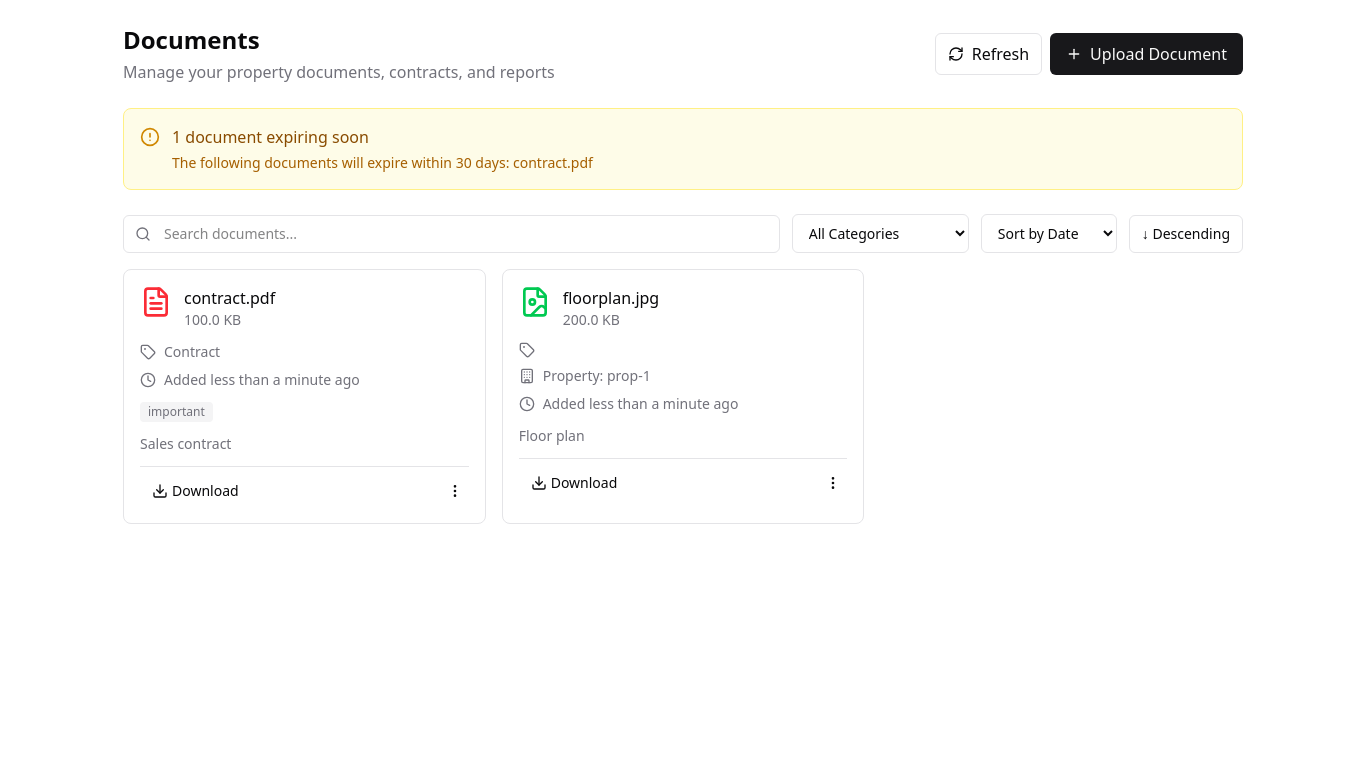
Test: DocumentsPage › closes upload modal on cancel
Check: the heading "Documents" is shown, box top-left (123, 23), bottom-right (260, 56)
Click the button "Upload Document".
click(1147, 54)  # box top-left (1050, 33), bottom-right (1243, 75)
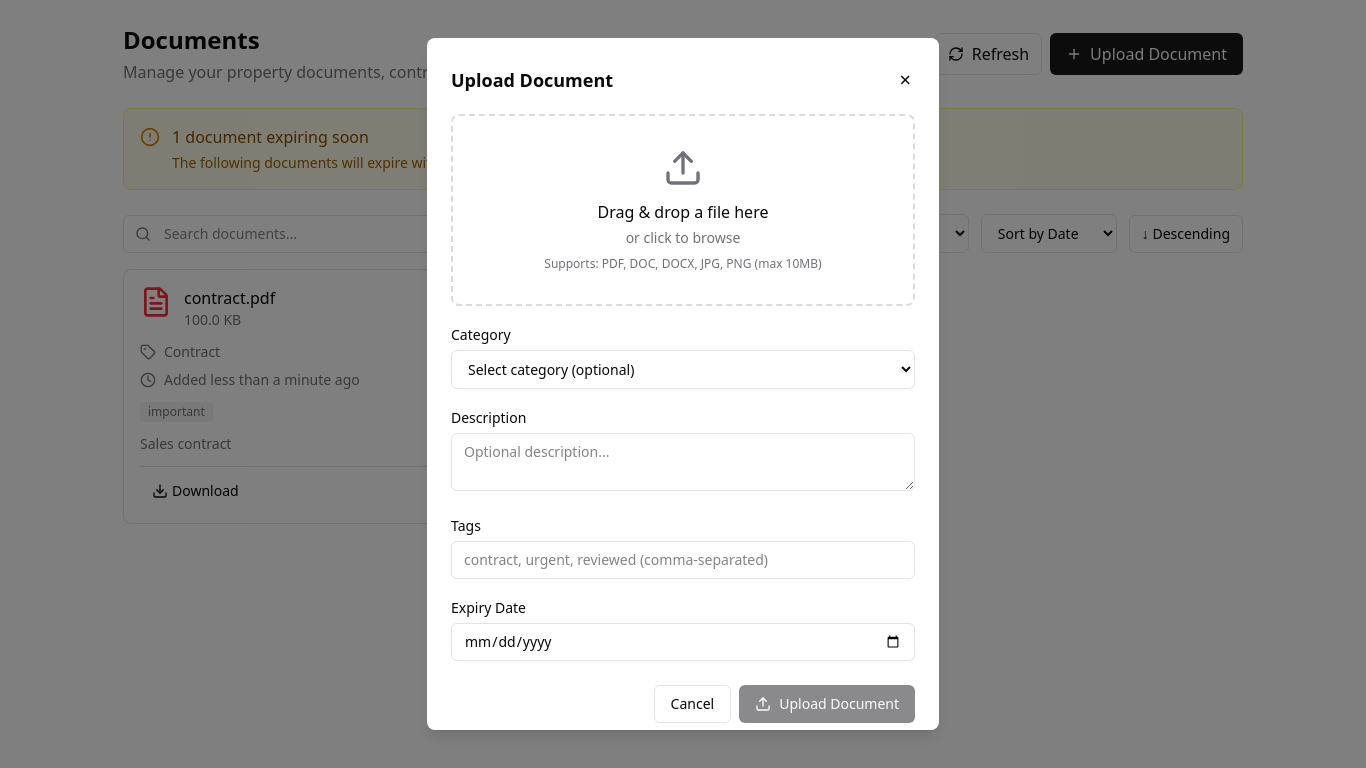
Check: the button "×" is shown
Note: Click the close button to close modal
Click the button "×".
click(905, 80)  # box top-left (896, 62), bottom-right (915, 98)
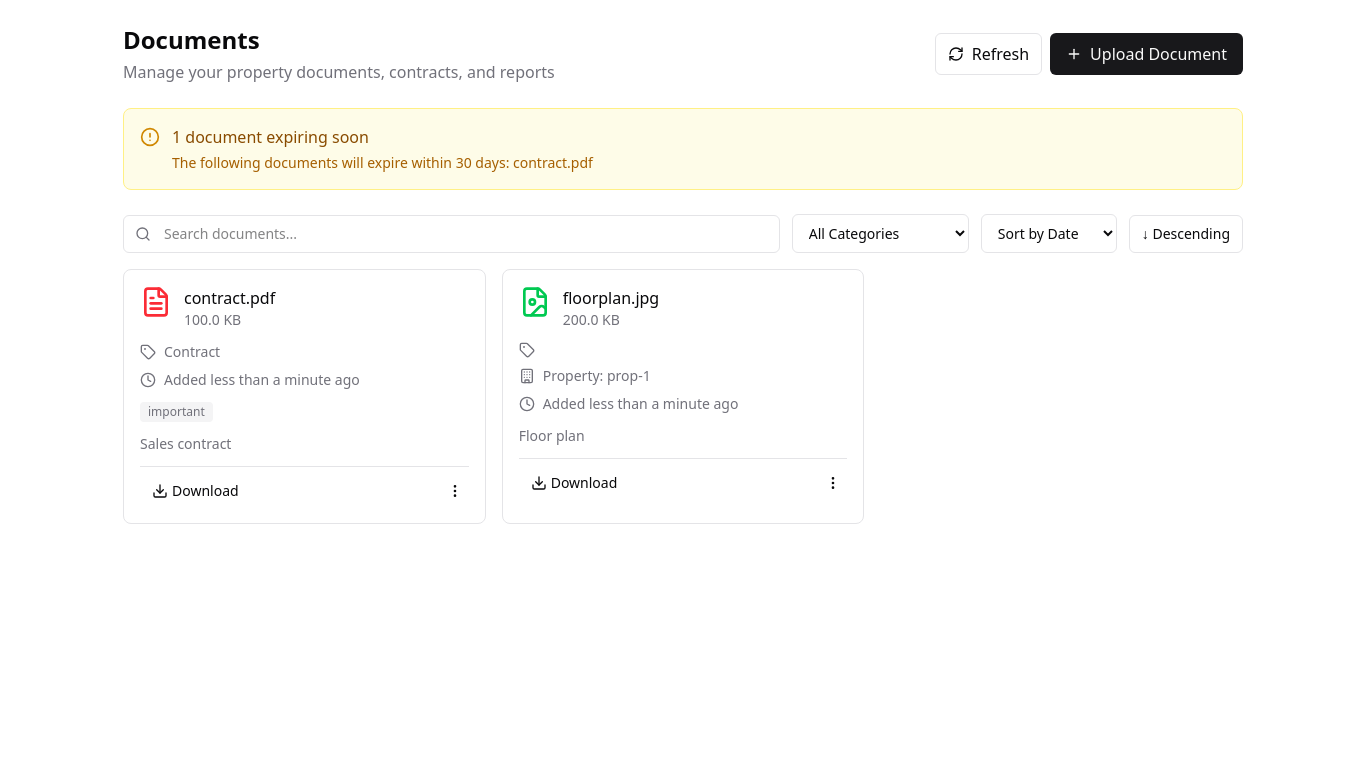
Check: the button "×" is gone
